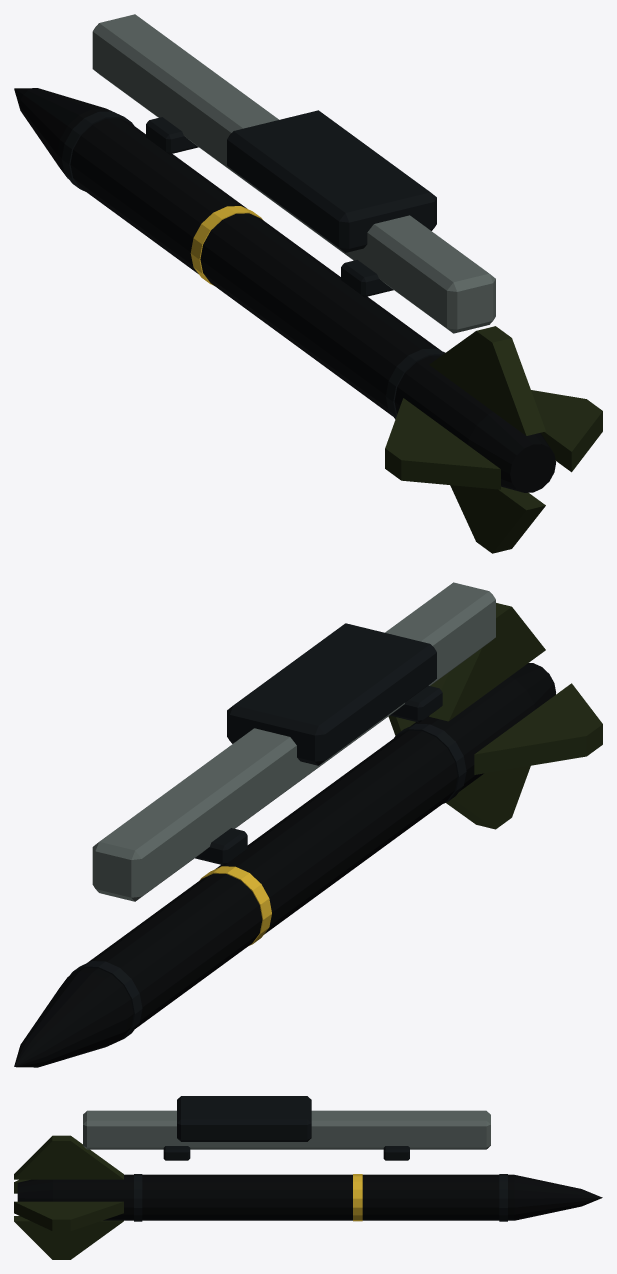
Rendered from MissileATSingle.obj.
3 renders of one model, top to bottom at view 1: azimuth 30°, elevation 25°; view 2: azimuth 150°, elevation 25°; view 3: azimuth 270°, elevation 25°, orthographic. The views are drawn at different scales.
Visible parts, largest first — view 1: AT_body, Rail_spine, Mount_lug, AT_tail_fin.001, AT_tail_fin.002, AT_tail_fin.003, AT_tail_fin, Rail_retaining_lug, Rail_retaining_lug.001, Identification_band, AT_guidance_collar.001, AT_guidance_collar; view 2: AT_body, Rail_spine, Mount_lug, AT_tail_fin.002, AT_tail_fin.001, AT_tail_fin.003, Rail_retaining_lug.001, Rail_retaining_lug, Identification_band, AT_guidance_collar.001, AT_guidance_collar; view 3: AT_body, Rail_spine, Mount_lug, AT_tail_fin.001, AT_tail_fin, AT_tail_fin.003, Identification_band, AT_guidance_collar, AT_guidance_collar.001, Rail_retaining_lug, Rail_retaining_lug.001.
Boxes of the visible parts, left/top/right/bottom form: AT_body: left=14, top=88, right=555, bottom=492; Rail_spine: left=92, top=14, right=495, bottom=333; Mount_lug: left=227, top=110, right=436, bottom=252; AT_tail_fin.001: left=429, top=326, right=545, bottom=435; AT_tail_fin.002: left=385, top=398, right=500, bottom=489; AT_tail_fin.003: left=450, top=485, right=545, bottom=553; AT_tail_fin: left=531, top=390, right=602, bottom=472; Rail_retaining_lug: left=341, top=260, right=393, bottom=297; Rail_retaining_lug.001: left=146, top=117, right=198, bottom=154; Identification_band: left=190, top=206, right=262, bottom=285; AT_guidance_collar.001: left=61, top=111, right=133, bottom=191; AT_guidance_collar: left=385, top=348, right=445, bottom=419; AT_body: left=14, top=663, right=555, bottom=1067; Rail_spine: left=92, top=582, right=495, bottom=901; Mount_lug: left=227, top=623, right=436, bottom=765; AT_tail_fin.002: left=474, top=683, right=602, bottom=774; AT_tail_fin.001: left=429, top=603, right=545, bottom=721; AT_tail_fin.003: left=446, top=765, right=530, bottom=829; Rail_retaining_lug.001: left=195, top=828, right=247, bottom=865; Rail_retaining_lug: left=390, top=685, right=442, bottom=722; Identification_band: left=200, top=866, right=271, bottom=945; AT_guidance_collar.001: left=69, top=961, right=142, bottom=1040; AT_guidance_collar: left=394, top=723, right=466, bottom=803; AT_body: left=17, top=1174, right=602, bottom=1220; Rail_spine: left=83, top=1110, right=490, bottom=1149; Mount_lug: left=177, top=1096, right=311, bottom=1141; AT_tail_fin.001: left=14, top=1135, right=123, bottom=1179; AT_tail_fin: left=14, top=1201, right=123, bottom=1231; AT_tail_fin.003: left=14, top=1216, right=123, bottom=1259; Identification_band: left=353, top=1174, right=362, bottom=1221; AT_guidance_collar: left=134, top=1174, right=142, bottom=1221; AT_guidance_collar.001: left=499, top=1174, right=507, bottom=1221; Rail_retaining_lug: left=163, top=1146, right=190, bottom=1160; Rail_retaining_lug.001: left=383, top=1146, right=409, bottom=1160.
Size of the model in its own units: 0.37 by 0.465 by 1.66.
